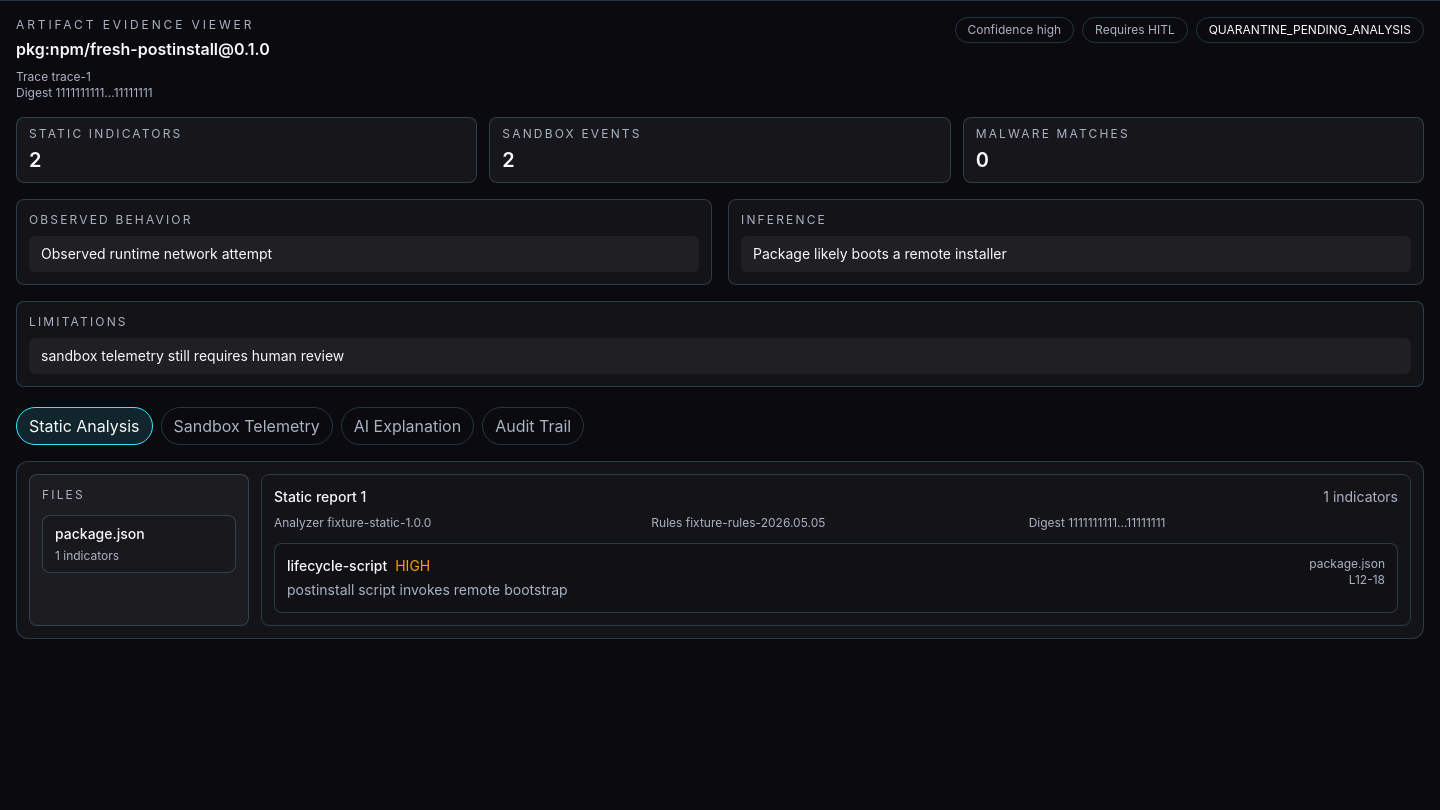
it: ArtifactEvidenceViewer › renders a Langfuse trace link on the AI tab when trace metadata is present
The width and height of the screenshot is (1440, 810).
Click the button "AI Explanation": (407, 426) [341,407,474,445]
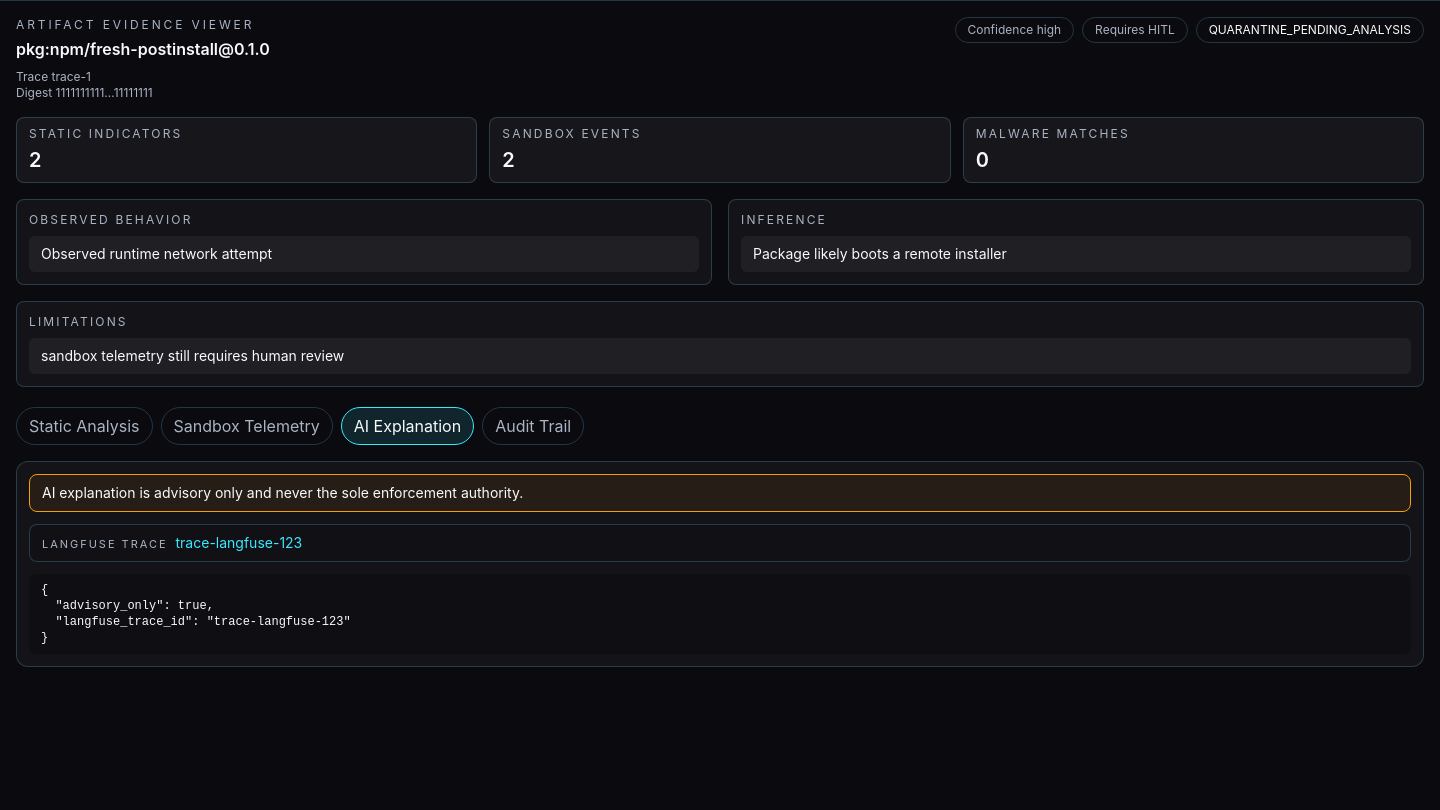
Check: the text "Langfuse Trace" is shown, box [42,537,168,551]
